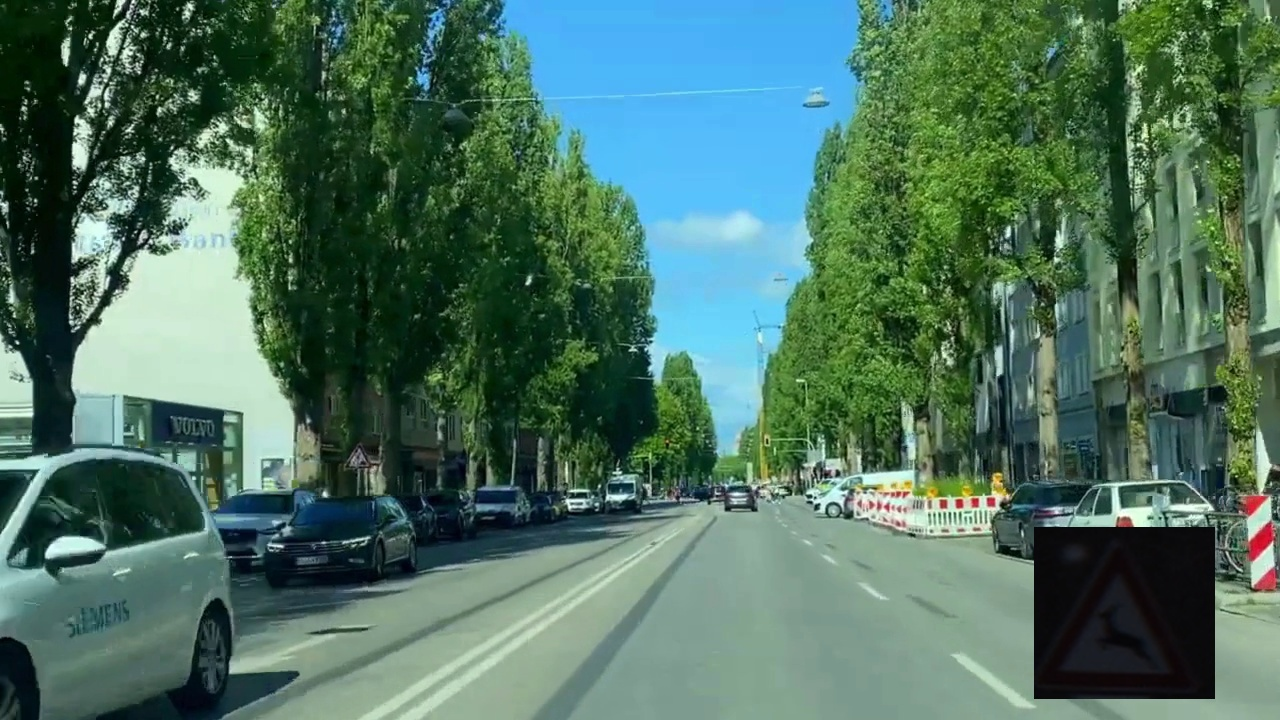Wild animals: (1034, 527, 1215, 699)
